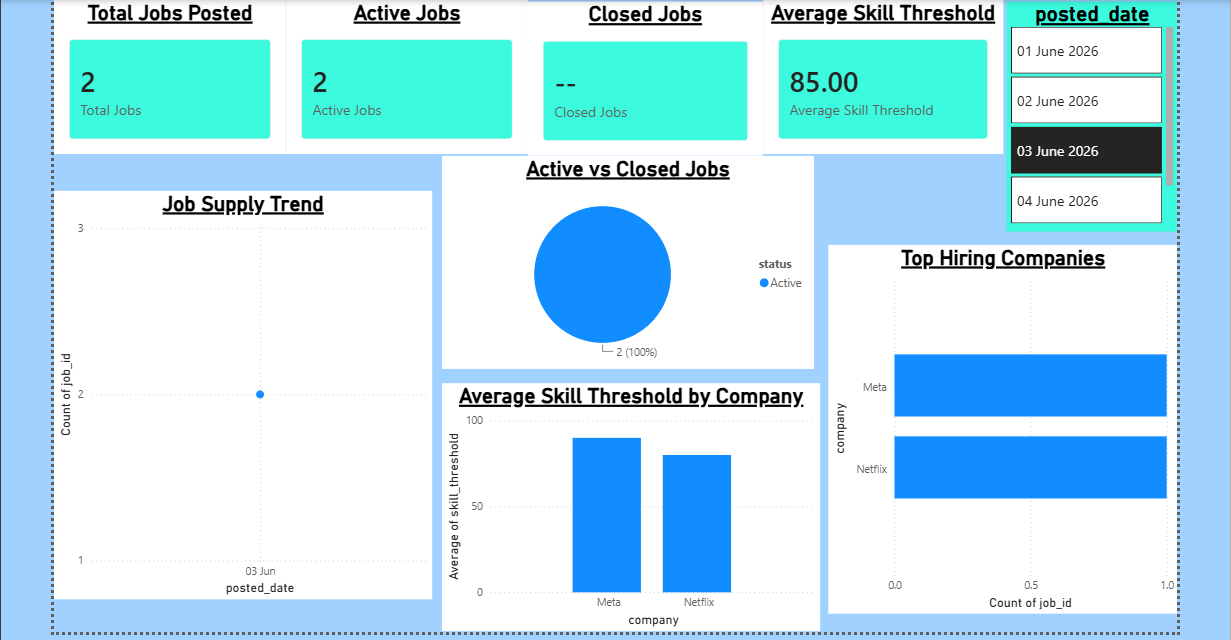

Layout of this report page (visuals, bound fields, positions):
{"tool":"powerbi","page":{"name":"Page 1","canvas":[1280,720],"ordinal":0},"visuals":[{"type":"cardVisual","title":"Total Jobs Posted","fields":{"Data":["jobs.Total Jobs"]},"box":[0,0,264.5,175.7],"z":0},{"type":"cardVisual","title":"Active Jobs","fields":{"Data":["jobs.Active Jobs"]},"box":[264.5,0,275.3,175.7],"z":1000},{"type":"cardVisual","title":"Closed Jobs","fields":{"Data":["jobs.Closed Jobs"]},"box":[539.8,1.8,268.1,175.7],"z":2000},{"type":"cardVisual","title":"Average Skill Threshold","fields":{"Data":["jobs.Average Skill Threshold"]},"box":[807.9,0,273.5,175.7],"z":3000},{"type":"lineChart","title":"Job Supply Trend","fields":{"Y":["CountNonNull(jobs.job_id)"],"Category":["jobs.posted_date"]},"box":[0,217.4,431.1,465.5],"z":4000},{"type":"clusteredBarChart","title":"Top Hiring Companies","fields":{"Category":["jobs.company"],"Y":["CountNonNull(jobs.job_id)"]},"box":[882.1,279,398.5,420.2],"z":5000},{"type":"pieChart","title":"Active vs Closed Jobs","fields":{"Category":["jobs.status"],"Y":["CountNonNull(jobs.job_id)"]},"box":[442,177.5,423.9,242.7],"z":6000},{"type":"clusteredColumnChart","title":"Average Skill Threshold by Company","fields":{"Y":["Avg(jobs.skill_threshold)"],"Category":["jobs.company"]},"box":[442,436.5,431.1,282.6],"z":7000},{"type":"advancedSlicerVisual","fields":{"Values":["jobs.posted_date"]},"box":[1085,1.8,195.6,260.8],"z":8000}]}

Visuals, with their boxes in screenshot pixels (x1, y1, x2, y2):
"Total Jobs Posted" cardVisual: x1=51, y1=19, x2=284, y2=174
"Active Jobs" cardVisual: x1=284, y1=19, x2=525, y2=174
"Closed Jobs" cardVisual: x1=525, y1=21, x2=761, y2=175
"Average Skill Threshold" cardVisual: x1=761, y1=19, x2=1001, y2=174
"Job Supply Trend" lineChart: x1=51, y1=210, x2=430, y2=619
"Top Hiring Companies" clusteredBarChart: x1=826, y1=264, x2=1176, y2=633
"Active vs Closed Jobs" pieChart: x1=439, y1=175, x2=812, y2=388
"Average Skill Threshold by Company" clusteredColumnChart: x1=439, y1=403, x2=818, y2=639
advancedSlicerVisual - jobs.posted_date: x1=1004, y1=21, x2=1176, y2=250
